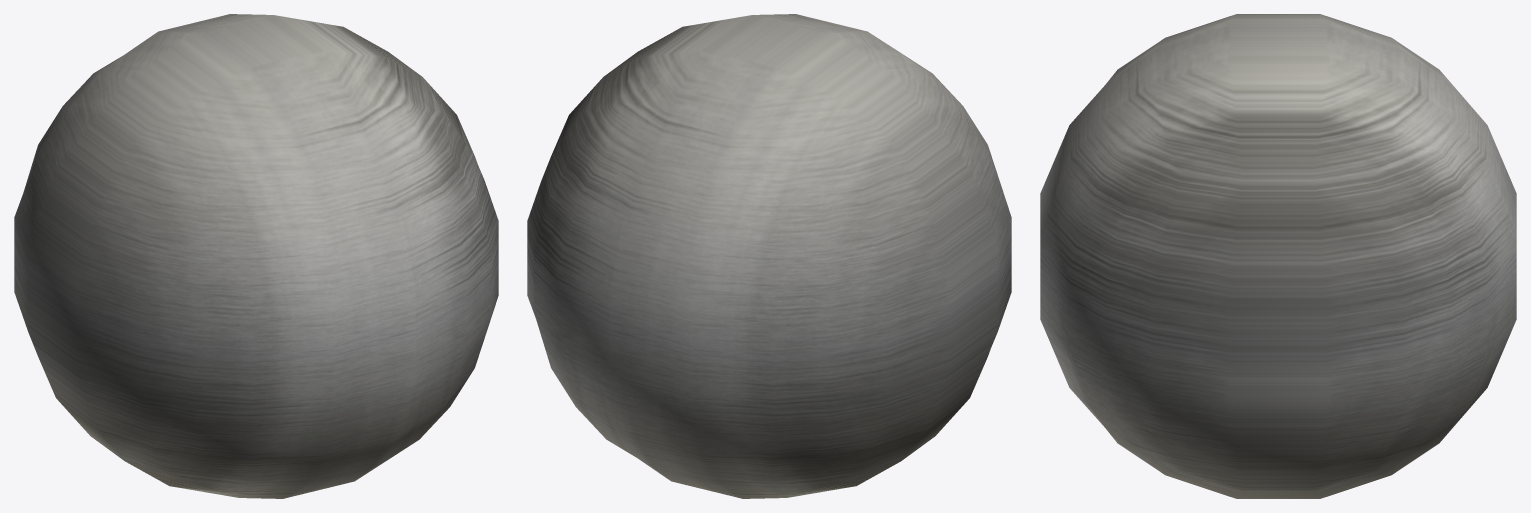
File: ironball.fbx
3 renders of one model, left to right at view 1: azimuth 30°, elevation 25°; view 2: azimuth 150°, elevation 25°; view 3: azimuth 270°, elevation 25°, orthographic.
Parts seen in each view (by area): view 1: ironball; view 2: ironball; view 3: ironball.
Part boxes in pixels (x1,y1,x2,y2): ironball: (14, 14, 498, 498); ironball: (527, 14, 1011, 498); ironball: (1040, 14, 1516, 498).
Bounding box in the file's own units: 192 × 192 × 192.
